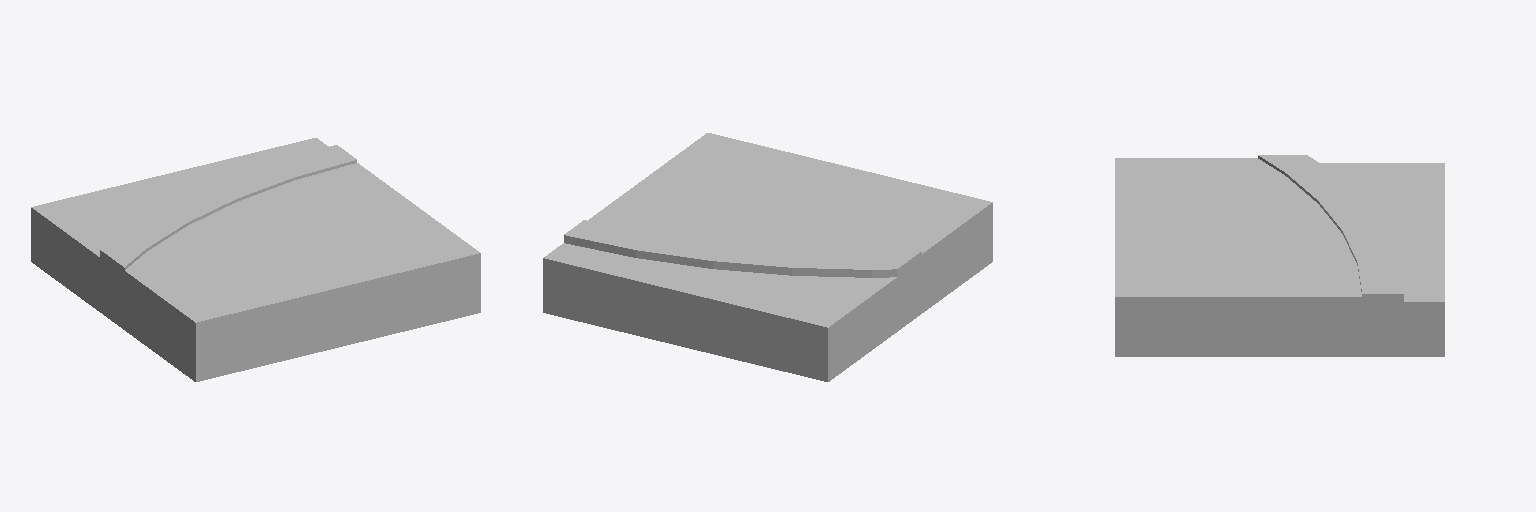
The model's file is tile213.obj.
3 renders of one model, left to right at view 1: azimuth 30°, elevation 25°; view 2: azimuth 150°, elevation 25°; view 3: azimuth 270°, elevation 25°, orthographic.
Visible parts, largest first — view 1: tile213; view 2: tile213; view 3: tile213.
Part boxes in pixels (x1,y1,x2,y2): tile213: (31,138,480,381); tile213: (543,133,992,381); tile213: (1115,155,1444,356).
Size of the model in its own units: 1 by 0.21 by 1.